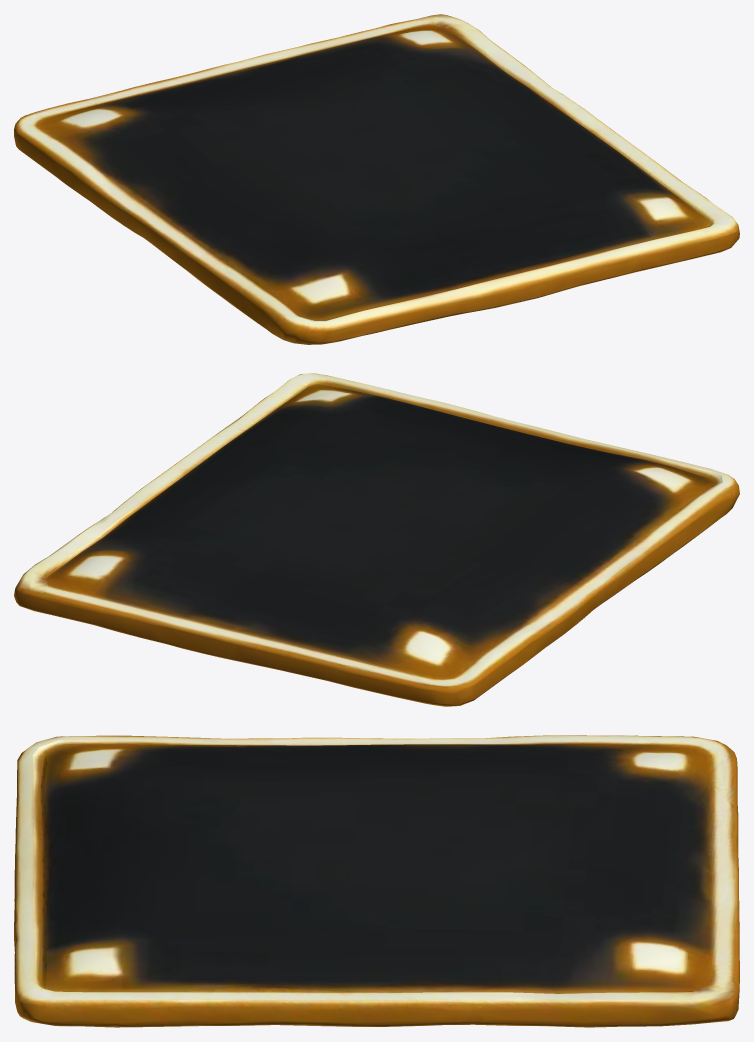
The model's file is m2ChevronSpeedPad.glb.
The picture shows the model from 3 angles, top to bottom: view 1: azimuth 30°, elevation 25°; view 2: azimuth 150°, elevation 25°; view 3: azimuth 270°, elevation 25°; orthographic projection. The views are drawn at different scales.
Parts seen in each view (by area): view 1: model; view 2: model; view 3: model.
Boxes of the visible parts, x1,y1,x2,y2 form: model: [14, 14, 739, 344]; model: [14, 373, 739, 706]; model: [14, 735, 739, 1027].
Bounding box in the file's own units: 1.66 × 0.1943 × 1.9.
1 material, 1 textured.
